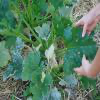Squash Powdery mildew leaf: (62, 23, 97, 72), (30, 73, 60, 99), (33, 24, 51, 40)
